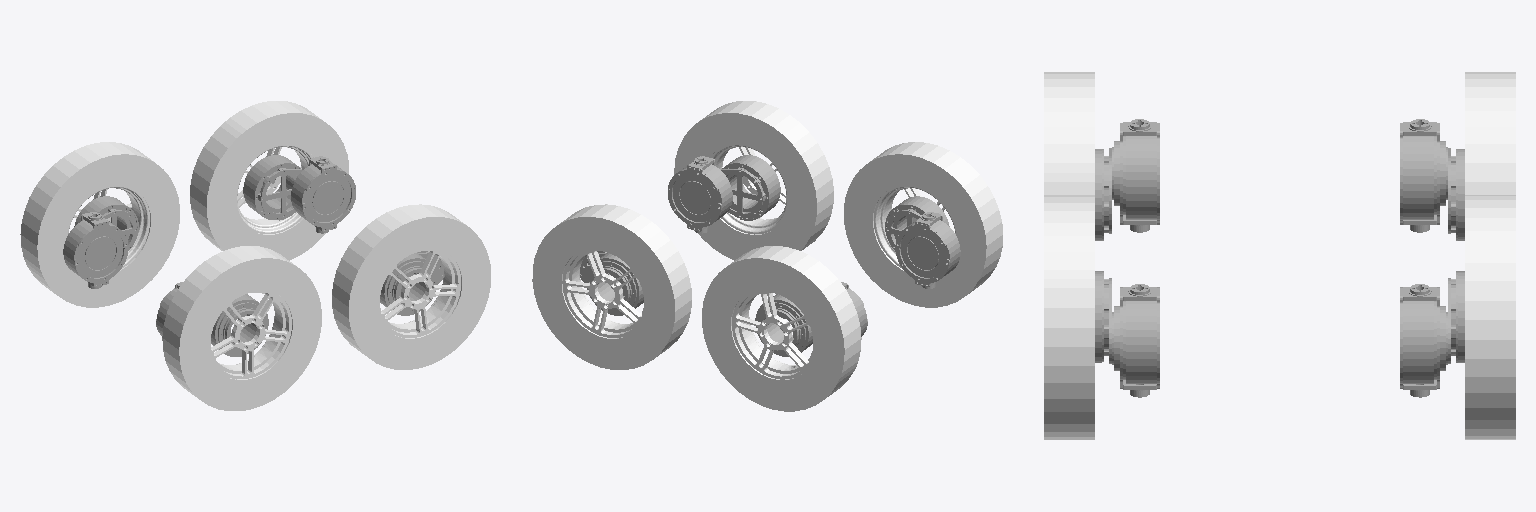
robot.urdf — mobile_platform_gen3_wide_wheel_urdf:
?<?xml version="1.0" encoding="utf-8"?>
<!-- This URDF was automatically created by SolidWorks to URDF Exporter! Originally created by [author] ([email redacted]) 
     Commit Version: 1.6.0-4-g7f85cfe  Build Version: 1.6.7995.38578
     For more information, please see http://wiki.ros.org/sw_urdf_exporter -->
<robot
  name="mobile_platform_gen3_wide_wheel_urdf">

<link name="dummy">
  </link>

  <link
    name="base_link">
    <inertial>
      <origin
        xyz="0.0 0.0 0.061298696891405"
        rpy="0 0 0" />
      <mass
        value="4.5" />
      <inertia
        ixx="0.0225456696225423"
        ixy="-1.84020714024046E-05"
        ixz="-0.00187225282049763"
        iyy="0.0465437023707633"
        iyz="5.4063546445361E-06"
        izz="0.0590771369694188" />
    </inertial>
    <visual>
      <origin
        xyz="0 0 0"
        rpy="0 0 0" />
      <geometry>
        <mesh
          filename="package://mobile_platform_gen3_wide_wheel_urdf/meshes/base_link.STL" />
      </geometry>
      <material
        name="">
        <color
          rgba="0.752941176470588 0.752941176470588 0.752941176470588 1" />
      </material>
    </visual>
    <collision>
      <origin
        xyz="0 0 0"
        rpy="0 0 0" />
      <geometry>
        <mesh
          filename="package://mobile_platform_gen3_wide_wheel_urdf/meshes/base_link.STL" />
      </geometry>
    </collision>
  </link>

<joint name="dummy_joint" type="fixed">
   <parent link="dummy"/>
   <child link="base_link"/>
 </joint>

  <link
    name="LF2_Link">
    <inertial>
      <origin
        xyz="0.000177066941838055 0.00238059348160047 3.04718962471084E-06"
        rpy="0 0 0" />
      <mass
        value="0.8" />
      <inertia
        ixx="0.00020503259875413"
        ixy="6.75864332395974E-07"
        ixz="-3.68818359075002E-07"
        iyy="0.000299541738357316"
        iyz="-1.72473812530403E-07"
        izz="0.000151339897550825" />
    </inertial>
    <visual>
      <origin
        xyz="0 0 0"
        rpy="0 0 0" />
      <geometry>
        <mesh
          filename="package://mobile_platform_gen3_wide_wheel_urdf/meshes/LF2_Link.STL" />
      </geometry>
      <material
        name="">
        <color
          rgba="0.752941176470588 0.752941176470588 0.752941176470588 1" />
      </material>
    </visual>
    <collision>
      <origin
        xyz="0 0 0"
        rpy="0 0 0" />
      <geometry>
        <mesh
          filename="package://mobile_platform_gen3_wide_wheel_urdf/meshes/LF2_Link.STL" />
      </geometry>
    </collision>
  </link>
  <joint
    name="LF2_Joint"
    type="continuous">
    <origin
      xyz="0.194999999999995 0.138499999999992 0.052500000000003"
      rpy="0 0 0" />
    <parent
      link="base_link" />
    <child
      link="LF2_Link" />
    <axis
      xyz="0 0 1" />
  </joint>
  <link
    name="LF1_Link">
    <inertial>
      <origin
        xyz="-0.0318468820872356 0.0302764822704568 0.000147529294126453"
        rpy="0 0 0" />
      <mass
        value="0.8" />
      <inertia
        ixx="0.000337467149402487"
        ixy="0.000152358661677688"
        ixz="1.42010516657995E-06"
        iyy="0.000460807932668524"
        iyz="1.79133753723983E-08"
        izz="0.000506700151713982" />
    </inertial>
    <visual>
      <origin
        xyz="0 0 0"
        rpy="0 0 0" />
      <geometry>
        <mesh
          filename="package://mobile_platform_gen3_wide_wheel_urdf/meshes/LF1_Link.STL" />
      </geometry>
      <material
        name="">
        <color
          rgba="0.752941176470588 0.752941176470588 0.752941176470588 1" />
      </material>
    </visual>
    <collision>
      <origin
        xyz="0 0 0"
        rpy="0 0 0" />
      <geometry>
        <mesh
          filename="package://mobile_platform_gen3_wide_wheel_urdf/meshes/LF1_Link.STL" />
      </geometry>
    </collision>
  </link>
  <joint
    name="LF1_Joint"
    type="fixed">
    <origin
      xyz="0 0.00675000000000026 0"
      rpy="0 0 0" />
    <parent
      link="LF2_Link" />
    <child
      link="LF1_Link" />
    <axis
      xyz="0 1 0" />
  </joint>
  <link
    name="LF0_Link">
    <inertial>
      <origin
        xyz="0.000239426478726323 0.000570289922476541 5.29985645396913E-05"
        rpy="0 0 0" />
      <mass
        value="2.2" />
      <inertia
        ixx="0.00938753913695465"
        ixy="2.87272138380677E-07"
        ixz="7.34561507713243E-06"
        iyy="0.0178557390232477"
        iyz="6.35347159765153E-08"
        izz="0.00936044451327353" />
    </inertial>
    <visual>
      <origin
        xyz="0 0 0"
        rpy="0 0 0" />
      <geometry>
        <mesh
          filename="package://mobile_platform_gen3_wide_wheel_urdf/meshes/LF0_Link.STL" />
      </geometry>
      <material
        name="">
        <color
          rgba="1 1 1 1" />
      </material>
    </visual>
    <collision>
      <origin
        xyz="0 0 0"
        rpy="0 0 0" />
      <geometry>
        <mesh
          filename="package://mobile_platform_gen3_wide_wheel_urdf/meshes/LF0_Link.STL" />
      </geometry>
    </collision>
  </link>
  <joint
    name="LF0_Joint"
    type="continuous">
    <origin
      xyz="-0.0500000000000006 0.0651499999999992 0"
      rpy="0 0 0" />
    <parent
      link="LF1_Link" />
    <child
      link="LF0_Link" />
    <axis
      xyz="0 -1 0" />
  </joint>
  <link
    name="RF2_Link">
    <inertial>
      <origin
        xyz="0.000177066941837833 -0.00238059348159969 3.04718962654271E-06"
        rpy="0 0 0" />
      <mass
        value="0.8" />
      <inertia
        ixx="0.000205032598754135"
        ixy="-6.75864332395546E-07"
        ixz="-3.68818359075823E-07"
        iyy="0.000299541738357322"
        iyz="1.72473812528975E-07"
        izz="0.000151339897550824" />
    </inertial>
    <visual>
      <origin
        xyz="0 0 0"
        rpy="0 0 0" />
      <geometry>
        <mesh
          filename="package://mobile_platform_gen3_wide_wheel_urdf/meshes/RF2_Link.STL" />
      </geometry>
      <material
        name="">
        <color
          rgba="0.752941176470588 0.752941176470588 0.752941176470588 1" />
      </material>
    </visual>
    <collision>
      <origin
        xyz="0 0 0"
        rpy="0 0 0" />
      <geometry>
        <mesh
          filename="package://mobile_platform_gen3_wide_wheel_urdf/meshes/RF2_Link.STL" />
      </geometry>
    </collision>
  </link>
  <joint
    name="RF2_Joint"
    type="continuous">
    <origin
      xyz="0.194999999999998 -0.138500000000007 0.0524999999999921"
      rpy="0 0 0" />
    <parent
      link="base_link" />
    <child
      link="RF2_Link" />
    <axis
      xyz="0 0 1" />
  </joint>
  <link
    name="RF1_Link">
    <inertial>
      <origin
        xyz="-0.0319690993561761 -0.0302764822704572 0.00014752929613715"
        rpy="0 0 0" />
      <mass
        value="0.8" />
      <inertia
        ixx="0.00033750699567887"
        ixy="-0.000152343821751643"
        ixz="1.8504488511453E-07"
        iyy="0.00046209834303011"
        iyz="-1.79133657870878E-08"
        izz="0.000507950715799196" />
    </inertial>
    <visual>
      <origin
        xyz="0 0 0"
        rpy="0 0 0" />
      <geometry>
        <mesh
          filename="package://mobile_platform_gen3_wide_wheel_urdf/meshes/RF1_Link.STL" />
      </geometry>
      <material
        name="">
        <color
          rgba="0.752941176470588 0.752941176470588 0.752941176470588 1" />
      </material>
    </visual>
    <collision>
      <origin
        xyz="0 0 0"
        rpy="0 0 0" />
      <geometry>
        <mesh
          filename="package://mobile_platform_gen3_wide_wheel_urdf/meshes/RF1_Link.STL" />
      </geometry>
    </collision>
  </link>
  <joint
    name="RF1_Joint"
    type="fixed">
    <origin
      xyz="0 -0.00674999999999853 0"
      rpy="0 0 0" />
    <parent
      link="RF2_Link" />
    <child
      link="RF1_Link" />
    <axis
      xyz="0 -1 0" />
  </joint>
  <link
    name="RF0_Link">
    <inertial>
      <origin
        xyz="0.000104421717959102 -0.000570289922476513 -0.000221874353472706"
        rpy="0 0 0" />
      <mass
        value="2.2" />
      <inertia
        ixx="0.00936491509548454"
        ixy="-1.24865635649255E-07"
        ixz="-1.24528598441868E-05"
        iyy="0.0178557390269462"
        iyz="2.66271960673673E-07"
        izz="0.0093830685584422" />
    </inertial>
    <visual>
      <origin
        xyz="0 0 0"
        rpy="0 0 0" />
      <geometry>
        <mesh
          filename="package://mobile_platform_gen3_wide_wheel_urdf/meshes/RF0_Link.STL" />
      </geometry>
      <material
        name="">
        <color
          rgba="1 1 1 1" />
      </material>
    </visual>
    <collision>
      <origin
        xyz="0 0 0"
        rpy="0 0 0" />
      <geometry>
        <mesh
          filename="package://mobile_platform_gen3_wide_wheel_urdf/meshes/RF0_Link.STL" />
      </geometry>
    </collision>
  </link>
  <joint
    name="RF0_Joint"
    type="continuous">
    <origin
      xyz="-0.049999999999999 -0.0651499999999996 0"
      rpy="0 0 0" />
    <parent
      link="RF1_Link" />
    <child
      link="RF0_Link" />
    <axis
      xyz="0 -1 0" />
  </joint>
  <link
    name="LB2_Link">
    <inertial>
      <origin
        xyz="0.000177066941837223 0.00238059348159969 3.0471896256129E-06"
        rpy="0 0 0" />
      <mass
        value="0.8" />
      <inertia
        ixx="0.000205032598754128"
        ixy="6.75864332395181E-07"
        ixz="-3.68818359076586E-07"
        iyy="0.000299541738357316"
        iyz="-1.72473812524931E-07"
        izz="0.000151339897550823" />
    </inertial>
    <visual>
      <origin
        xyz="0 0 0"
        rpy="0 0 0" />
      <geometry>
        <mesh
          filename="package://mobile_platform_gen3_wide_wheel_urdf/meshes/LB2_Link.STL" />
      </geometry>
      <material
        name="">
        <color
          rgba="0.752941176470588 0.752941176470588 0.752941176470588 1" />
      </material>
    </visual>
    <collision>
      <origin
        xyz="0 0 0"
        rpy="0 0 0" />
      <geometry>
        <mesh
          filename="package://mobile_platform_gen3_wide_wheel_urdf/meshes/LB2_Link.STL" />
      </geometry>
    </collision>
  </link>
  <joint
    name="LB2_Joint"
    type="continuous">
    <origin
      xyz="-0.195000000000005 0.138499999999994 0.052500000000003"
      rpy="0 0 0" />
    <parent
      link="base_link" />
    <child
      link="LB2_Link" />
    <axis
      xyz="0 0 1" />
  </joint>
  <link
    name="LB1_Link">
    <inertial>
      <origin
        xyz="0.0320555200158374 0.0302764822704571 6.11086348523415E-05"
        rpy="0 0 0" />
      <mass
        value="0.8" />
      <inertia
        ixx="0.000338709235668273"
        ixy="-0.000152333328339301"
        ixz="2.78210055809599E-07"
        iyy="0.000463010800947307"
        iyz="7.41996123234184E-09"
        izz="0.000507660933726987" />
    </inertial>
    <visual>
      <origin
        xyz="0 0 0"
        rpy="0 0 0" />
      <geometry>
        <mesh
          filename="package://mobile_platform_gen3_wide_wheel_urdf/meshes/LB1_Link.STL" />
      </geometry>
      <material
        name="">
        <color
          rgba="0.752941176470588 0.752941176470588 0.752941176470588 1" />
      </material>
    </visual>
    <collision>
      <origin
        xyz="0 0 0"
        rpy="0 0 0" />
      <geometry>
        <mesh
          filename="package://mobile_platform_gen3_wide_wheel_urdf/meshes/LB1_Link.STL" />
      </geometry>
    </collision>
  </link>
  <joint
    name="LB1_Joint"
    type="fixed">
    <origin
      xyz="0 0.00674999999999559 0"
      rpy="0 0 0" />
    <parent
      link="LB2_Link" />
    <child
      link="LB1_Link" />
    <axis
      xyz="0 1 0" />
  </joint>
  <link
    name="LB0_Link">
    <inertial>
      <origin
        xyz="-1.50281773816374E-05 0.00057028992247643 0.000244761190639209"
        rpy="0 0 0" />
      <mass
        value="2.2" />
      <inertia
        ixx="0.00935884078197502"
        ixy="-1.79772069266924E-08"
        ixz="-2.81666660519736E-06"
        iyy="0.0178557390232477"
        iyz="2.93664369204658E-07"
        izz="0.00938914286825317" />
    </inertial>
    <visual>
      <origin
        xyz="0 0 0"
        rpy="0 0 0" />
      <geometry>
        <mesh
          filename="package://mobile_platform_gen3_wide_wheel_urdf/meshes/LB0_Link.STL" />
      </geometry>
      <material
        name="">
        <color
          rgba="1 1 1 1" />
      </material>
    </visual>
    <collision>
      <origin
        xyz="0 0 0"
        rpy="0 0 0" />
      <geometry>
        <mesh
          filename="package://mobile_platform_gen3_wide_wheel_urdf/meshes/LB0_Link.STL" />
      </geometry>
    </collision>
  </link>
  <joint
    name="LB0_Joint"
    type="continuous">
    <origin
      xyz="0.0499999999999848 0.0651500000000003 0"
      rpy="0 0 0" />
    <parent
      link="LB1_Link" />
    <child
      link="LB0_Link" />
    <axis
      xyz="0 -1 0" />
  </joint>
  <link
    name="RB2_Link">
    <inertial>
      <origin
        xyz="0.000177066941838055 -0.00238059348160075 3.04718962634842E-06"
        rpy="0 0 0" />
      <mass
        value="0.8" />
      <inertia
        ixx="0.000205032598754131"
        ixy="-6.75864332395567E-07"
        ixz="-3.68818359076196E-07"
        iyy="0.000299541738357316"
        iyz="1.72473812528444E-07"
        izz="0.000151339897550825" />
    </inertial>
    <visual>
      <origin
        xyz="0 0 0"
        rpy="0 0 0" />
      <geometry>
        <mesh
          filename="package://mobile_platform_gen3_wide_wheel_urdf/meshes/RB2_Link.STL" />
      </geometry>
      <material
        name="">
        <color
          rgba="0.752941176470588 0.752941176470588 0.752941176470588 1" />
      </material>
    </visual>
    <collision>
      <origin
        xyz="0 0 0"
        rpy="0 0 0" />
      <geometry>
        <mesh
          filename="package://mobile_platform_gen3_wide_wheel_urdf/meshes/RB2_Link.STL" />
      </geometry>
    </collision>
  </link>
  <joint
    name="RB2_Joint"
    type="continuous">
    <origin
      xyz="-0.195000000000003 -0.138500000000004 0.0524999999999989"
      rpy="0 0 0" />
    <parent
      link="base_link" />
    <child
      link="RB2_Link" />
    <axis
      xyz="0 0 1" />
  </joint>
  <link
    name="RB1_Link">
    <inertial>
      <origin
        xyz="0.0319690993561799 -0.0302764822704568 0.000147529295422125"
        rpy="0 0 0" />
      <mass
        value="0.8" />
      <inertia
        ixx="0.000337460123428899"
        ixy="0.000152343821751641"
        ixz="-1.38172631351558E-07"
        iyy="0.000462098343030115"
        iyz="-1.79133691940941E-08"
        izz="0.000507997588049165" />
    </inertial>
    <visual>
      <origin
        xyz="0 0 0"
        rpy="0 0 0" />
      <geometry>
        <mesh
          filename="package://mobile_platform_gen3_wide_wheel_urdf/meshes/RB1_Link.STL" />
      </geometry>
      <material
        name="">
        <color
          rgba="0.752941176470588 0.752941176470588 0.752941176470588 1" />
      </material>
    </visual>
    <collision>
      <origin
        xyz="0 0 0"
        rpy="0 0 0" />
      <geometry>
        <mesh
          filename="package://mobile_platform_gen3_wide_wheel_urdf/meshes/RB1_Link.STL" />
      </geometry>
    </collision>
  </link>
  <joint
    name="RB1_Joint"
    type="fixed">
    <origin
      xyz="0 -0.0067500000000052 0"
      rpy="0 0 0" />
    <parent
      link="RB2_Link" />
    <child
      link="RB1_Link" />
    <axis
      xyz="0 -1 0" />
  </joint>
  <link
    name="RB0_Link">
    <inertial>
      <origin
        xyz="0.000197003380173144 -0.000570289922476375 -0.000146025870169805"
        rpy="0 0 0" />
      <mass
        value="2.2" />
      <inertia
        ixx="0.00937756355724757"
        ixy="-2.3639378475433E-07"
        ixz="-1.4991012258464E-05"
        iyy="0.0178557390232476"
        iyz="1.75156844678005E-07"
        izz="0.00937042009298058" />
    </inertial>
    <visual>
      <origin
        xyz="0 0 0"
        rpy="0 0 0" />
      <geometry>
        <mesh
          filename="package://mobile_platform_gen3_wide_wheel_urdf/meshes/RB0_Link.STL" />
      </geometry>
      <material
        name="">
        <color
          rgba="1 1 1 1" />
      </material>
    </visual>
    <collision>
      <origin
        xyz="0 0 0"
        rpy="0 0 0" />
      <geometry>
        <mesh
          filename="package://mobile_platform_gen3_wide_wheel_urdf/meshes/RB0_Link.STL" />
      </geometry>
    </collision>
  </link>
  <joint
    name="RB0_Joint"
    type="continuous">
    <origin
      xyz="0.0500000000000009 -0.0651499999999994 0"
      rpy="0 0 0" />
    <parent
      link="RB1_Link" />
    <child
      link="RB0_Link" />
    <axis
      xyz="0 -1 0" />
  </joint>

<!-- 以下为手动添加部分 -->
<!-- 除此以下部分之外,还添加了dummy,修改了各关节(joint)的axis,各构件(link)的mass,base_link质心 -->
<!-- 物理参数 -->
<gazebo reference="base_link">
    <material>Gazebo/White</material>
</gazebo>
<gazebo reference="LF0_Link">
    <mu1>2.5</mu1>
    <mu2>2.5</mu2>
    <material>Gazebo/Red</material>
</gazebo>
<gazebo reference="RF0_Link">
    <mu1>2.5</mu1>
    <mu2>2.5</mu2>
    <material>Gazebo/Red</material>
</gazebo>
<gazebo reference="LB0_Link">
    <mu1>2.5</mu1>
    <mu2>2.5</mu2>
    <material>Gazebo/Red</material>
</gazebo>
<gazebo reference="RB0_Link">
    <mu1>2.5</mu1>
    <mu2>2.5</mu2>
    <material>Gazebo/Red</material>
</gazebo>
<gazebo reference="LF1_Link">
    <material>Gazebo/Green</material>
</gazebo>
<gazebo reference="RF1_Link">
    <material>Gazebo/Green</material>
</gazebo>
<gazebo reference="LB1_Link">
    <material>Gazebo/Green</material>
</gazebo>
<gazebo reference="RB1_Link">
    <material>Gazebo/Green</material>
</gazebo>
<gazebo reference="LF2_Link">
    <material>Gazebo/Blue</material>
</gazebo>
<gazebo reference="RF2_Link">
    <material>Gazebo/Blue</material>
</gazebo>
<gazebo reference="LB2_Link">
    <material>Gazebo/Blue</material>
</gazebo>
<gazebo reference="RB2_Link">
    <material>Gazebo/Blue</material>
</gazebo>


<!-- 控制器 -->
<gazebo>
<plugin filename="libgazebo_ros_control.so" name="gazebo_ros_control">
<robotNamespace>/</robotNamespace>
<robotSimType>gazebo_ros_control/DefaultRobotHWSim</robotSimType>
<legacyModeNS>true</legacyModeNS>
</plugin>
</gazebo>

<!-- 链接器 -->
<transmission name="LF0_Trans">
<type>transmission_interface/SimpleTransmission</type>
<joint name="LF0_Joint">
<hardwareInterface>hardware_interface/EffortJointInterface</hardwareInterface>
</joint>
<actuator name="LF0_Motor">
<hardwareInterface>hardware_interface/EffortJointInterface</hardwareInterface>
<mechanicalReduction>1</mechanicalReduction>
</actuator>
</transmission>

<transmission name="RF0_Trans">
<type>transmission_interface/SimpleTransmission</type>
<joint name="RF0_Joint">
<hardwareInterface>hardware_interface/EffortJointInterface</hardwareInterface>
</joint>
<actuator name="RF0_Motor">
<hardwareInterface>hardware_interface/EffortJointInterface</hardwareInterface>
<mechanicalReduction>1</mechanicalReduction>
</actuator>
</transmission>

<transmission name="LB0_Trans">
<type>transmission_interface/SimpleTransmission</type>
<joint name="LB0_Joint">
<hardwareInterface>hardware_interface/EffortJointInterface</hardwareInterface>
</joint>
<actuator name="LB0_Motor">
<hardwareInterface>hardware_interface/EffortJointInterface</hardwareInterface>
<mechanicalReduction>1</mechanicalReduction>
</actuator>
</transmission>

<transmission name="RB0_Trans">
<type>transmission_interface/SimpleTransmission</type>
<joint name="RB0_Joint">
<hardwareInterface>hardware_interface/EffortJointInterface</hardwareInterface>
</joint>
<actuator name="RB0_Motor">
<hardwareInterface>hardware_interface/EffortJointInterface</hardwareInterface>
<mechanicalReduction>1</mechanicalReduction>
</actuator>
</transmission>

<!-- <transmission name="LF1_Trans">
<type>transmission_interface/SimpleTransmission</type>
<joint name="LF1_Joint">
<hardwareInterface>hardware_interface/EffortJointInterface</hardwareInterface>
</joint>
<actuator name="LF1_Motor">
<hardwareInterface>hardware_interface/EffortJointInterface</hardwareInterface>
<mechanicalReduction>1</mechanicalReduction>
</actuator>
</transmission>

<transmission name="RF1_Trans">
<type>transmission_interface/SimpleTransmission</type>
<joint name="RF1_Joint">
<hardwareInterface>hardware_interface/EffortJointInterface</hardwareInterface>
</joint>
<actuator name="RF1_Motor">
<hardwareInterface>hardware_interface/EffortJointInterface</hardwareInterface>
<mechanicalReduction>1</mechanicalReduction>
</actuator>
</transmission>

<transmission name="LB1_Trans">
<type>transmission_interface/SimpleTransmission</type>
<joint name="LB1_Joint">
<hardwareInterface>hardware_interface/EffortJointInterface</hardwareInterface>
</joint>
<actuator name="LB1_Motor">
<hardwareInterface>hardware_interface/EffortJointInterface</hardwareInterface>
<mechanicalReduction>1</mechanicalReduction>
</actuator>
</transmission>

<transmission name="RB1_Trans">
<type>transmission_interface/SimpleTransmission</type>
<joint name="RB1_Joint">
<hardwareInterface>hardware_interface/EffortJointInterface</hardwareInterface>
</joint>
<actuator name="RB1_Motor">
<hardwareInterface>hardware_interface/EffortJointInterface</hardwareInterface>
<mechanicalReduction>1</mechanicalReduction>
</actuator>
</transmission> -->

<transmission name="LF2_Trans">
<type>transmission_interface/SimpleTransmission</type>
<joint name="LF2_Joint">
<hardwareInterface>hardware_interface/EffortJointInterface</hardwareInterface>
</joint>
<actuator name="LF2_Motor">
<hardwareInterface>hardware_interface/EffortJointInterface</hardwareInterface>
<mechanicalReduction>1</mechanicalReduction>
</actuator>
</transmission>

<transmission name="RF2_Trans">
<type>transmission_interface/SimpleTransmission</type>
<joint name="RF2_Joint">
<hardwareInterface>hardware_interface/EffortJointInterface</hardwareInterface>
</joint>
<actuator name="RF2_Motor">
<hardwareInterface>hardware_interface/EffortJointInterface</hardwareInterface>
<mechanicalReduction>1</mechanicalReduction>
</actuator>
</transmission>

<transmission name="LB2_Trans">
<type>transmission_interface/SimpleTransmission</type>
<joint name="LB2_Joint">
<hardwareInterface>hardware_interface/EffortJointInterface</hardwareInterface>
</joint>
<actuator name="LB2_Motor">
<hardwareInterface>hardware_interface/EffortJointInterface</hardwareInterface>
<mechanicalReduction>1</mechanicalReduction>
</actuator>
</transmission>

<transmission name="RB2_Trans">
<type>transmission_interface/SimpleTransmission</type>
<joint name="RB2_Joint">
<hardwareInterface>hardware_interface/EffortJointInterface</hardwareInterface>
</joint>
<actuator name="RB2_Motor">
<hardwareInterface>hardware_interface/EffortJointInterface</hardwareInterface>
<mechanicalReduction>1</mechanicalReduction>
</actuator>
</transmission>

</robot>

--- Render facts (derived) ---
Views: 3 orthographic renders of the robot side by side, from view 1: azimuth 30°, elevation 25°; view 2: azimuth 150°, elevation 25°; view 3: azimuth 270°, elevation 25°.
Robot: mobile_platform_gen3_wide_wheel_urdf — 14 links, 13 joints (8 continuous, 5 fixed); root link dummy; default pose: every joint at zero.
Visible links, largest first — view 1: RB0_Link, RF0_Link, LB0_Link, LF0_Link, LF1_Link, LF2_Link, LB2_Link, LB1_Link, RF1_Link, RB1_Link; view 2: LB0_Link, LF0_Link, RB0_Link, RF0_Link, RF1_Link, RF2_Link, RB2_Link, RB1_Link, LF1_Link, LB1_Link; view 3: LF0_Link, RF0_Link, LB0_Link, RB0_Link, LB2_Link, RB2_Link, LF2_Link, RF2_Link, LF1_Link, LB1_Link, RB1_Link, RF1_Link.
Link boxes in pixels (x1=…): RB0_Link: x1=162, y1=246, x2=321, y2=410; RF0_Link: x1=332, y1=204, x2=490, y2=369; LB0_Link: x1=20, y1=142, x2=179, y2=307; LF0_Link: x1=190, y1=101, x2=348, y2=260; LF1_Link: x1=243, y1=155, x2=343, y2=220; LF2_Link: x1=291, y1=156, x2=355, y2=233; LB2_Link: x1=63, y1=212, x2=128, y2=288; LB1_Link: x1=74, y1=196, x2=138, y2=269; RF1_Link: x1=380, y1=252, x2=441, y2=315; RB1_Link: x1=211, y1=294, x2=268, y2=356; LB0_Link: x1=702, y1=246, x2=861, y2=411; LF0_Link: x1=532, y1=204, x2=691, y2=369; RB0_Link: x1=844, y1=142, x2=1002, y2=307; RF0_Link: x1=674, y1=101, x2=833, y2=260; RF1_Link: x1=680, y1=155, x2=780, y2=220; RF2_Link: x1=668, y1=156, x2=732, y2=233; RB2_Link: x1=895, y1=212, x2=960, y2=288; RB1_Link: x1=885, y1=196, x2=949, y2=269; LF1_Link: x1=582, y1=253, x2=643, y2=315; LB1_Link: x1=755, y1=294, x2=812, y2=356; LF0_Link: x1=1465, y1=195, x2=1515, y2=439; RF0_Link: x1=1044, y1=195, x2=1094, y2=439; LB0_Link: x1=1465, y1=72, x2=1515, y2=194; RB0_Link: x1=1044, y1=72, x2=1094, y2=194; LB2_Link: x1=1400, y1=119, x2=1445, y2=232; RB2_Link: x1=1114, y1=119, x2=1159, y2=232; LF2_Link: x1=1400, y1=284, x2=1445, y2=397; RF2_Link: x1=1114, y1=284, x2=1159, y2=397; LF1_Link: x1=1446, y1=271, x2=1464, y2=364; LB1_Link: x1=1446, y1=147, x2=1464, y2=240; RB1_Link: x1=1095, y1=147, x2=1113, y2=240; RF1_Link: x1=1095, y1=271, x2=1113, y2=364.
Size in the robot's own frame: 0.5349 by 0.4708 by 0.2449 metres.
Meshes: 13 distinct files referenced, 12 mesh visuals loaded (12 binary STL); not drawn: 1 (reference not matched to a file when rendering).
